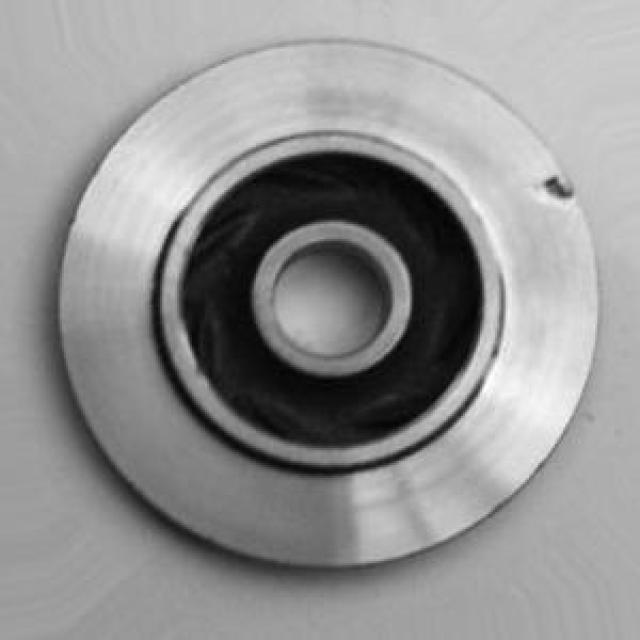Defect: (530, 162, 587, 215)
